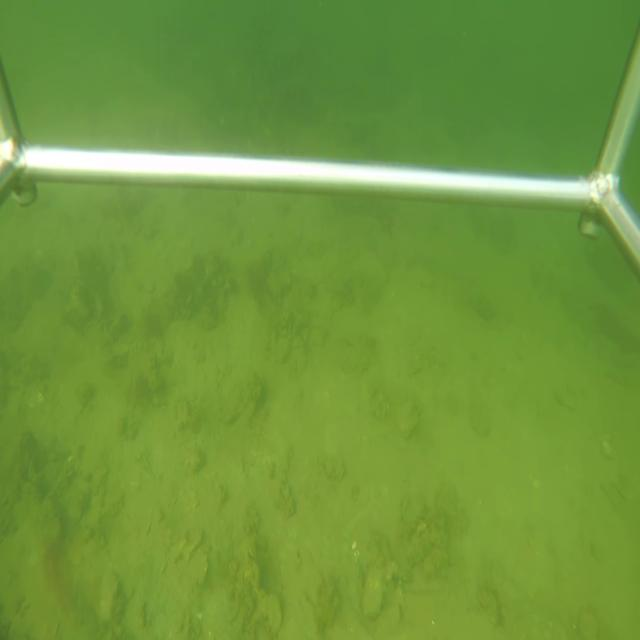Oyster-Indeterminate: (362, 563, 388, 627)
